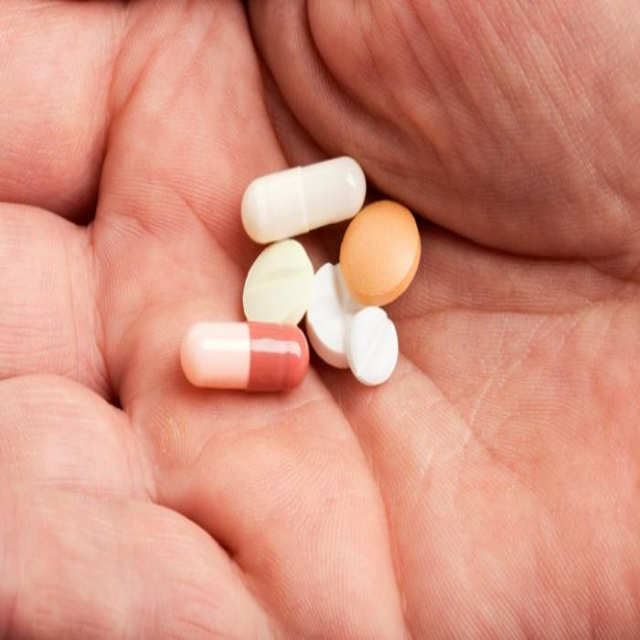pill: (260, 112, 400, 176), (196, 232, 341, 289), (373, 144, 461, 222), (338, 188, 415, 265), (263, 175, 340, 238), (380, 221, 433, 283)
